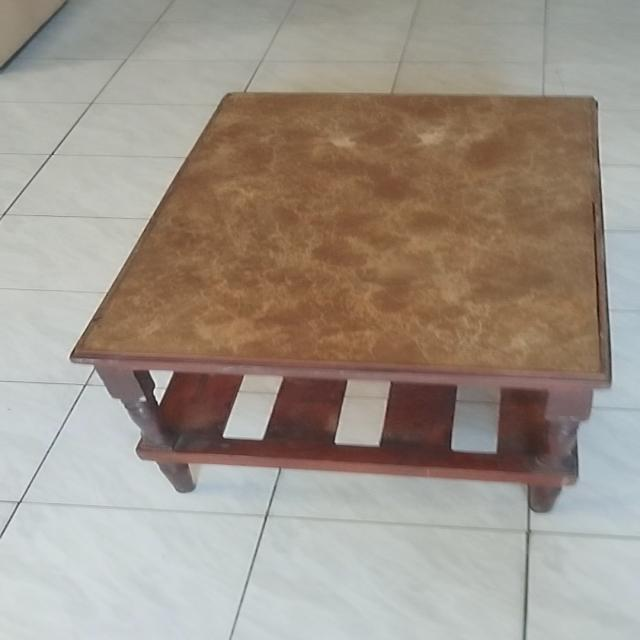table: (56, 88, 615, 517)
